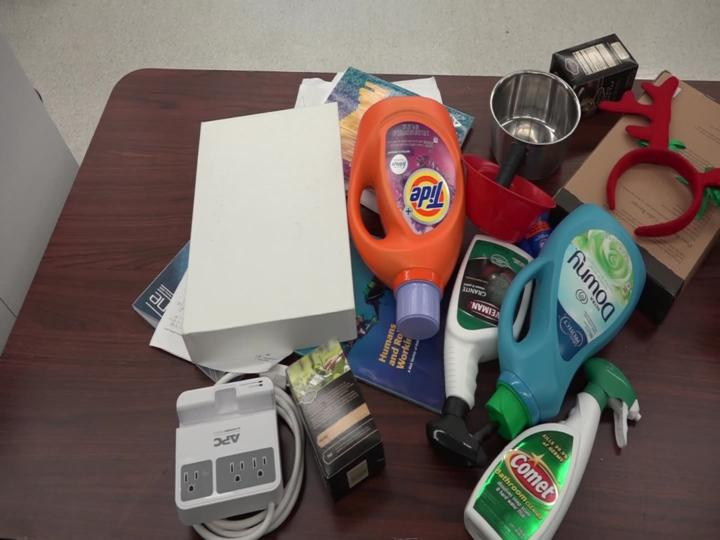downy: (468, 195, 658, 455)
